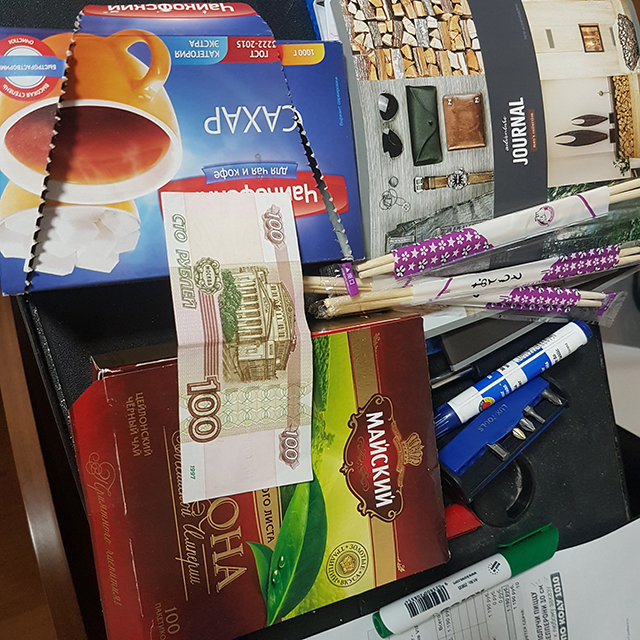banknotes: (158, 192, 313, 500)
